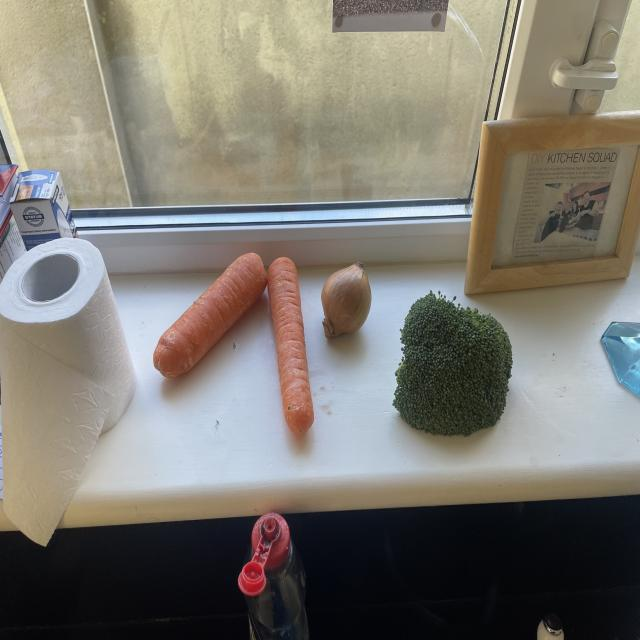Broccoli: (392, 290, 513, 438)
Carrot: (152, 251, 267, 380), (264, 256, 316, 437)
Onion: (320, 260, 372, 341)
